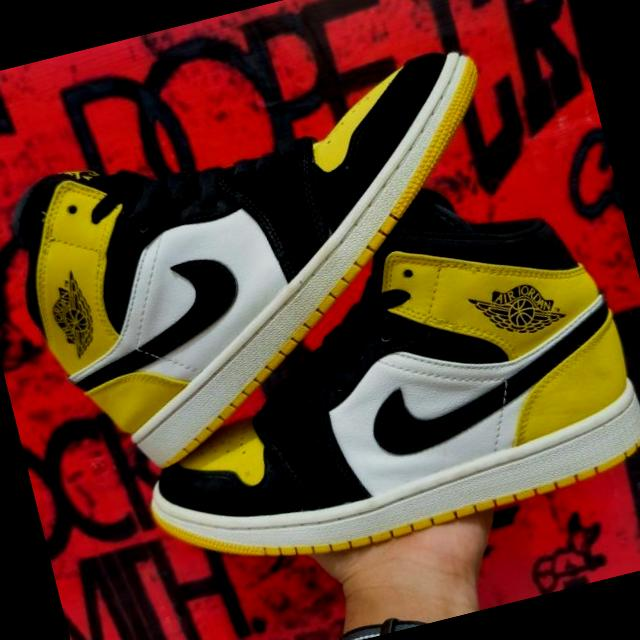nike_fake_jordan: (0, 38, 561, 492), (92, 179, 640, 596)
